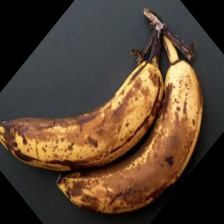banana: (41, 55, 184, 207)
